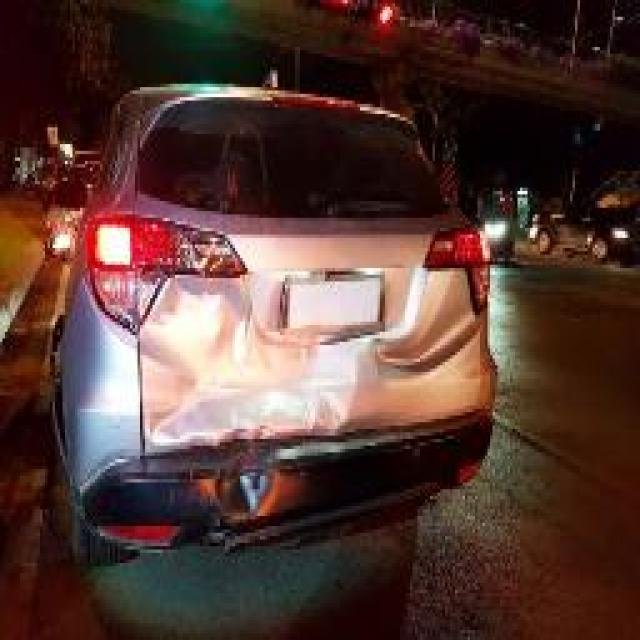Bumper: (198, 446, 290, 533)
Dickey: (145, 208, 472, 439)
